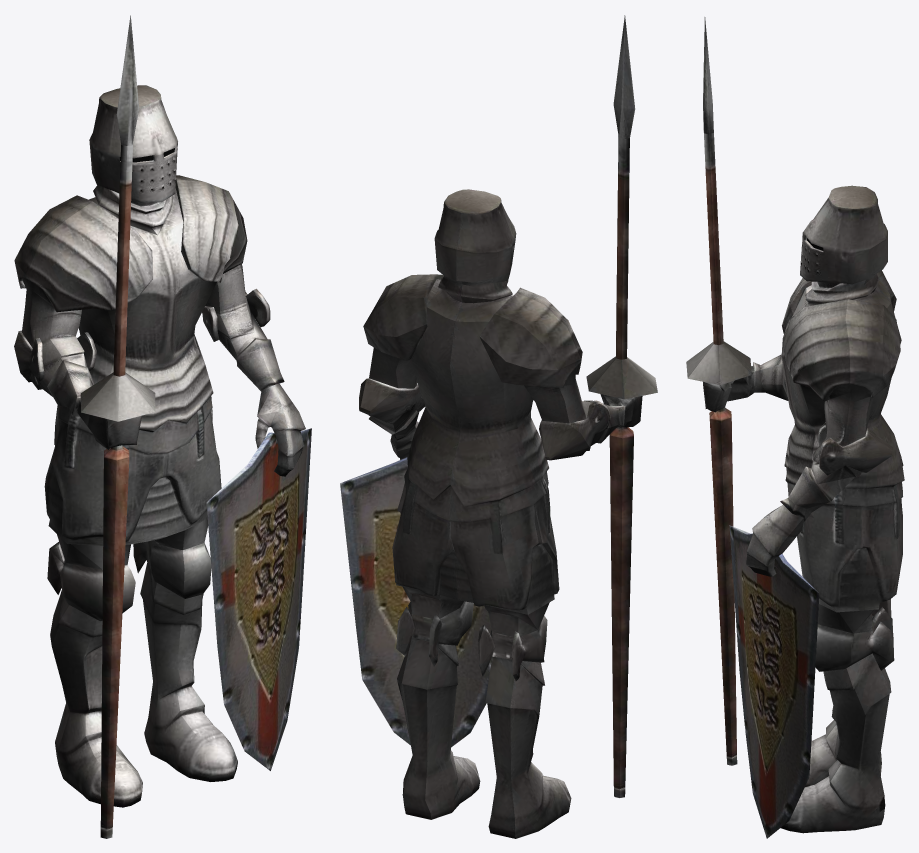
File: KnightSpear.glb
3 renders of one model, left to right at view 1: azimuth 30°, elevation 25°; view 2: azimuth 150°, elevation 25°; view 3: azimuth 270°, elevation 25°, orthographic. The views are drawn at different scales.
Parts seen in each view (by area): view 1: Box04; view 2: Box04; view 3: Box04.
Boxes of the visible parts, box(x1,y1,x2,y2) form: Box04: box(14, 15, 311, 838); Box04: box(340, 15, 657, 838); Box04: box(686, 17, 904, 838).
Size of the model in its own units: 0.8317 by 2.3 by 0.6042.
Materials: 1 (1 with a texture image).
